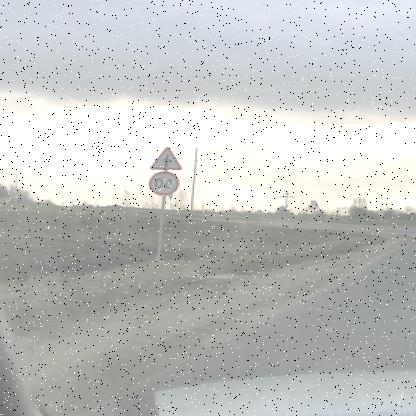speedlimit: (150, 170, 183, 193)
